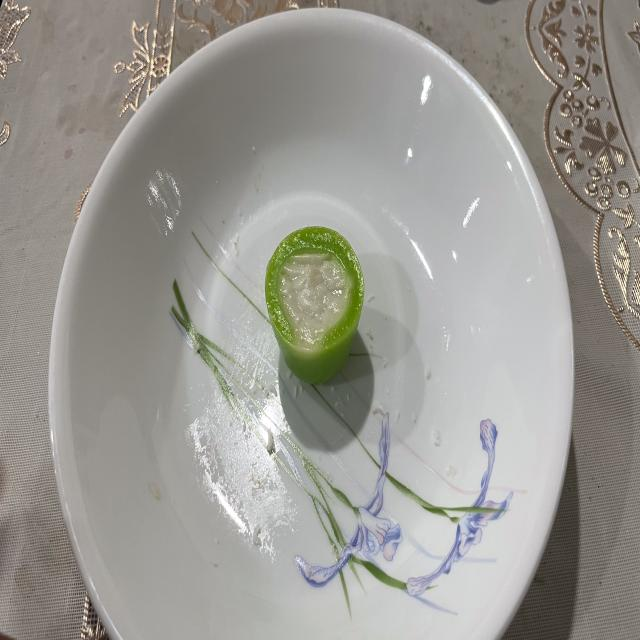nona-manis: (265, 227, 364, 384)
